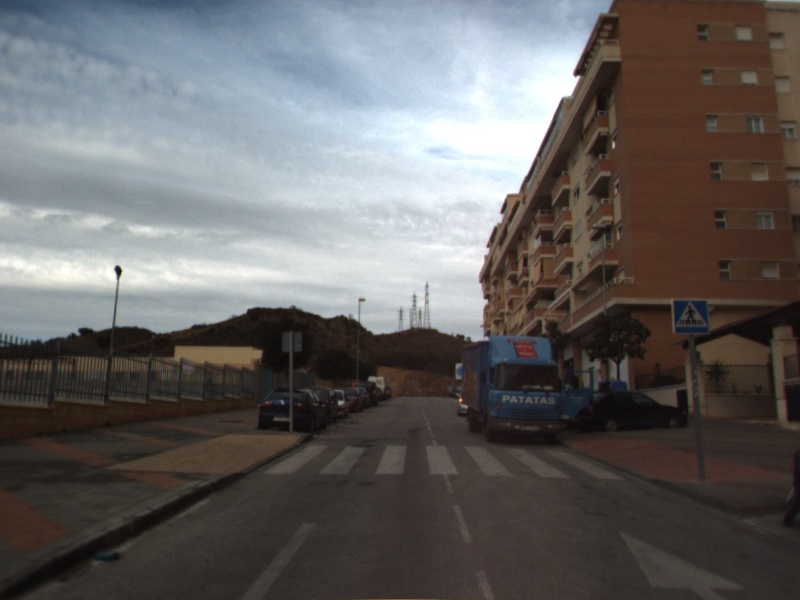STRAIGHT: (616, 528, 751, 600)
